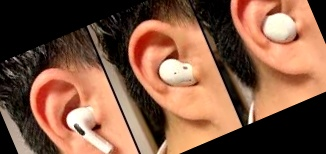earphone: (118, 9, 219, 141), (18, 55, 123, 154), (218, 0, 321, 92)
